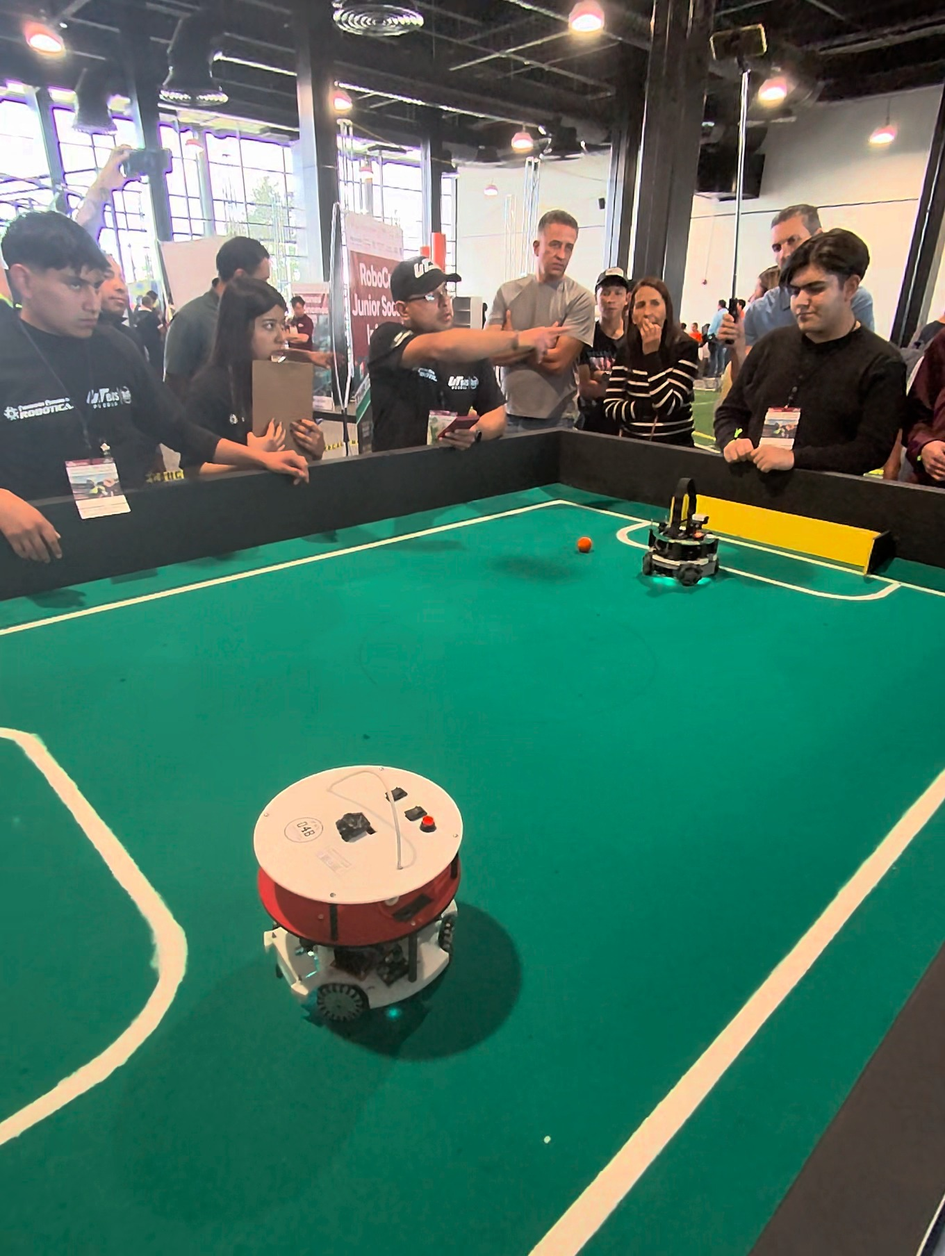Robot: (247, 737, 471, 1054), (642, 478, 720, 602)
pelota: (576, 536, 592, 554)
